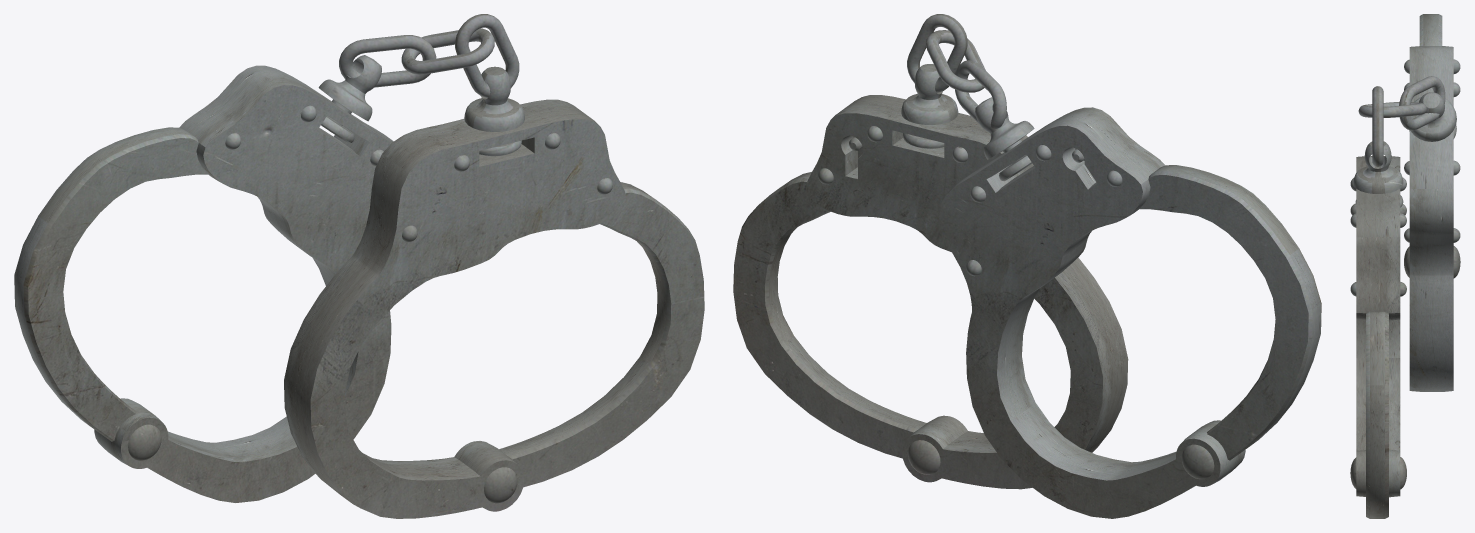
Rendered from shou_kao.FBX.
3 views of the same model, side by side, from view 1: azimuth 30°, elevation 25°; view 2: azimuth 150°, elevation 25°; view 3: azimuth 270°, elevation 25° (orthographic). The views are drawn at different scales.
Visible parts, largest first — view 1: CUFFS; view 2: CUFFS; view 3: CUFFS.
Boxes of the visible parts, x1,y1,x2,y2 form: CUFFS: (14, 14, 704, 518); CUFFS: (733, 14, 1321, 518); CUFFS: (1350, 14, 1460, 518).
Bounding box in the file's own units: 337 × 243 × 60.
